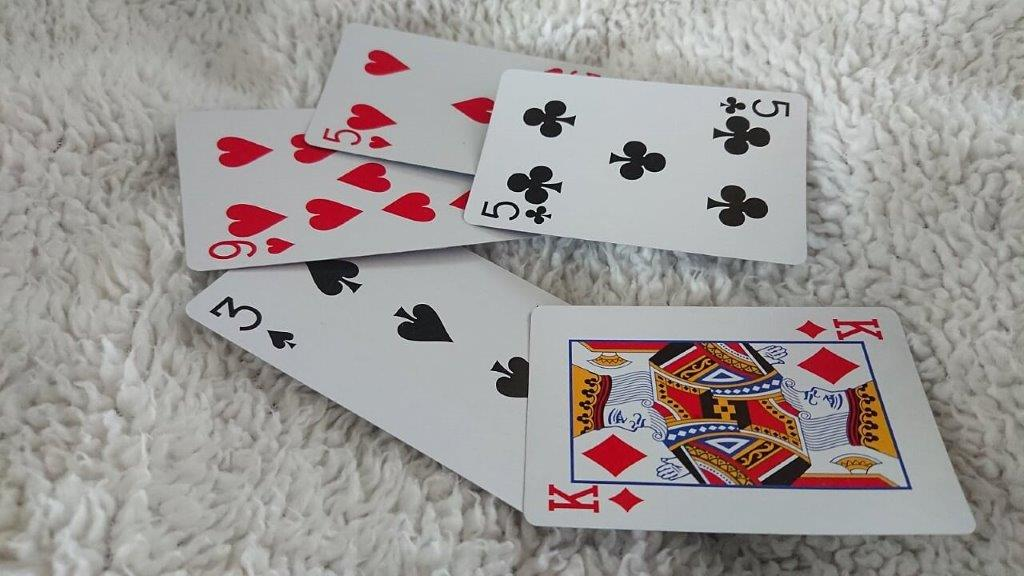3S: (182, 273, 522, 518)
5C: (462, 67, 810, 268)
5H: (304, 19, 470, 177)
9H: (171, 106, 306, 272)
KD: (523, 304, 977, 538)
